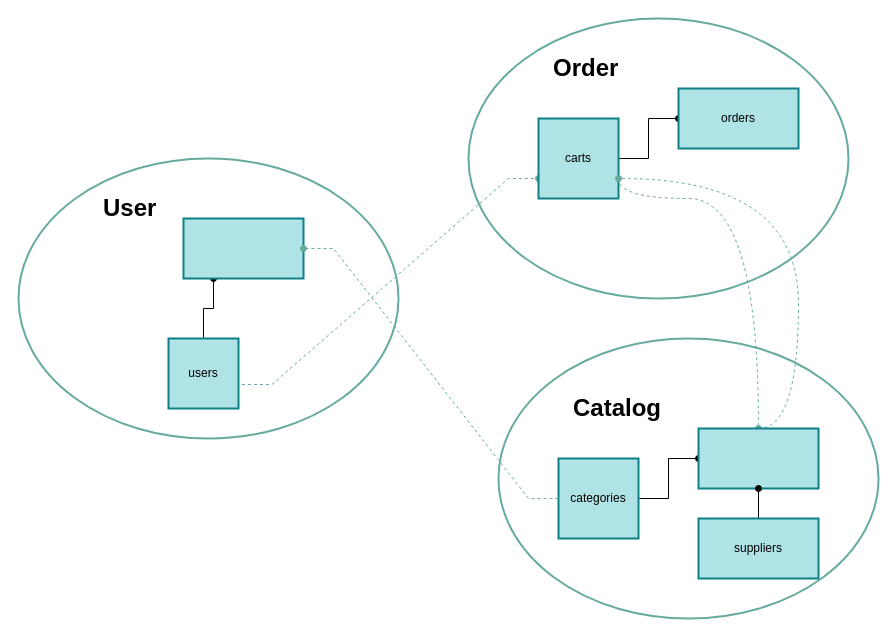
Image size: 896x636. Some labels were removed from this diagram. The centre of each missing label's shape, as x and y in pixels:
"favourite_categories" belongs at pixel 243 248.
"products" belongs at pixel 758 458.
